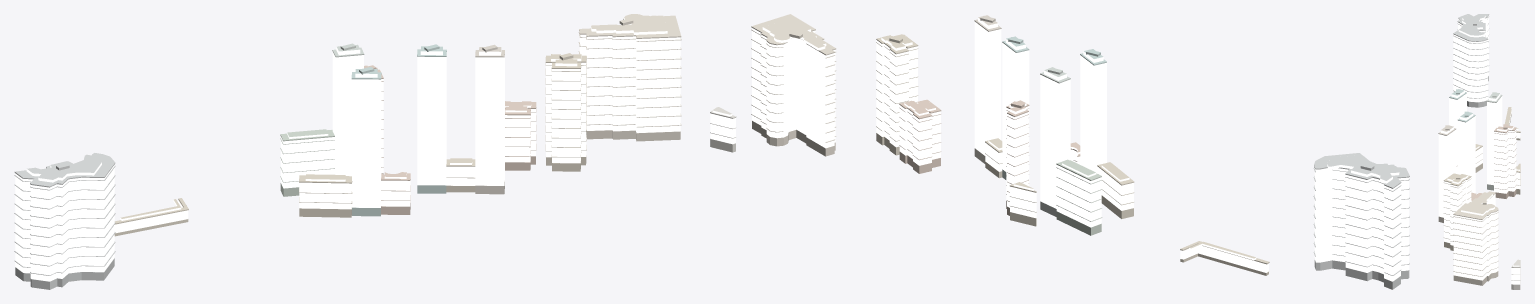
The model's file is buildings-10_4-fine.glb.
The picture shows the model from 3 angles, left to right: view 1: azimuth 30°, elevation 25°; view 2: azimuth 150°, elevation 25°; view 3: azimuth 270°, elevation 25°; orthographic projection. The views are drawn at different scales.
Parts seen in each view (by area): view 1: block_10_4_residential, block_10_4_office, block_10_4_roof, block_10_4_darkglass, block_10_4_concrete; view 2: block_10_4_residential, block_10_4_office, block_10_4_roof, block_10_4_darkglass, block_10_4_concrete; view 3: block_10_4_residential, block_10_4_office, block_10_4_roof, block_10_4_concrete, block_10_4_darkglass, block_10_4_steel.
Part boxes in pixels (box(x1,y1,x2,y2)): block_10_4_residential: box(15, 18, 680, 281); block_10_4_office: box(332, 47, 504, 207); block_10_4_roof: box(15, 14, 681, 281); block_10_4_darkglass: box(15, 130, 680, 289); block_10_4_concrete: box(14, 19, 681, 275); block_10_4_residential: box(710, 27, 1409, 281); block_10_4_office: box(974, 18, 1106, 208); block_10_4_roof: box(710, 14, 1409, 281); block_10_4_darkglass: box(710, 121, 1409, 289); block_10_4_concrete: box(710, 26, 1409, 275); block_10_4_residential: box(1444, 15, 1520, 284); block_10_4_office: box(1438, 90, 1502, 217); block_10_4_roof: box(1439, 14, 1520, 283); block_10_4_concrete: box(1444, 15, 1520, 280); block_10_4_darkglass: box(1438, 76, 1520, 289); block_10_4_steel: box(1438, 93, 1502, 135).
Size of the model in its own units: 294 by 60.46 by 48.83.
